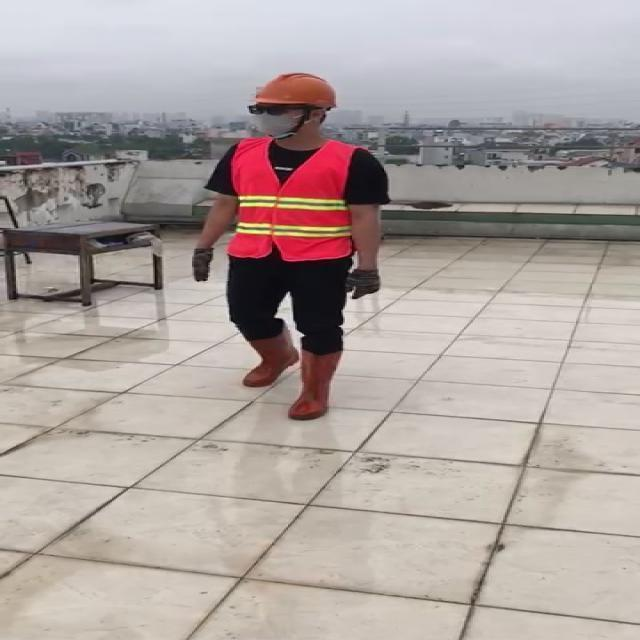gloves: (342, 269, 381, 300), (192, 248, 215, 284)
goggles: (247, 105, 324, 116)
helmet: (245, 69, 337, 112)
safety_vest: (227, 139, 361, 259)
